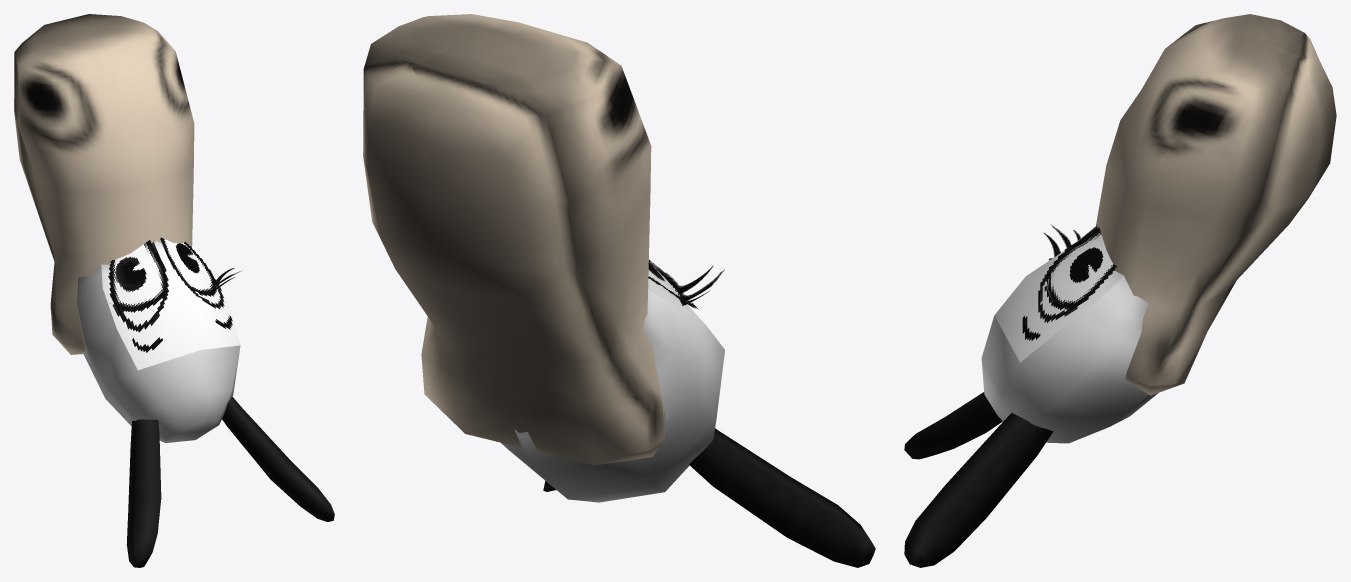
The model's file is hll.glb.
The picture shows the model from 3 angles, left to right: view 1: azimuth 30°, elevation 25°; view 2: azimuth 150°, elevation 25°; view 3: azimuth 270°, elevation 25°; orthographic projection. The views are drawn at different scales.
Parts seen in each view (by area): view 1: muzzle-long-neutral, head-long, ears-long, head-front-long, eyes-long, joint_pupilL_long; view 2: muzzle-long-neutral, head-long, ears-long, eyelashes; view 3: muzzle-long-neutral, head-long, ears-long, head-front-long, eyes-long, joint_pupilR_long.
Boxes of the visible parts, box(x1,y1,x2,y2) form: muzzle-long-neutral: box(14, 14, 194, 354); head-long: box(76, 265, 240, 442); ears-long: box(126, 397, 334, 567); head-front-long: box(101, 241, 240, 370); eyes-long: box(108, 237, 232, 352); joint_pupilL_long: box(115, 256, 146, 291); muzzle-long-neutral: box(363, 14, 665, 465); head-long: box(501, 289, 724, 502); ears-long: box(543, 428, 875, 567); eyelashes: box(650, 261, 724, 305); muzzle-long-neutral: box(1096, 14, 1336, 395); head-long: box(981, 276, 1158, 443); ears-long: box(904, 392, 1053, 567); head-front-long: box(994, 226, 1123, 362); eyes-long: box(1022, 226, 1117, 340); joint_pupilR_long: box(1069, 247, 1103, 282).
Bounding box in the file's own units: 1.11 × 2.21 × 1.82.
7 materials, 7 textured.
